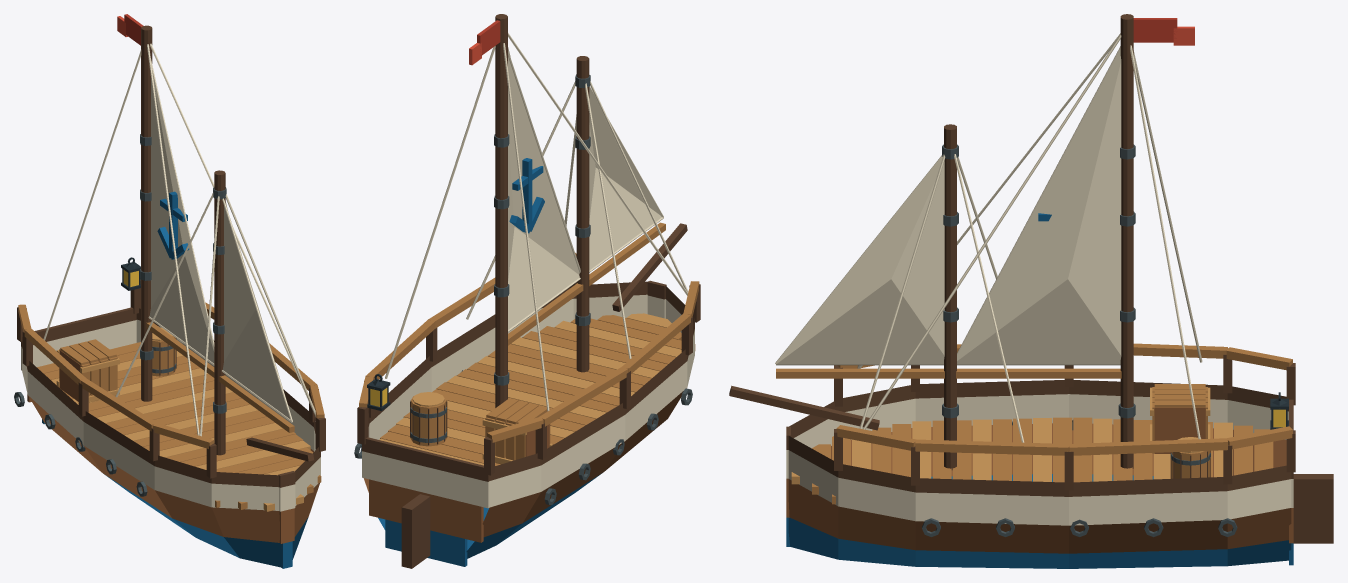
The model's file is main_sailboat.glb.
The picture shows the model from 3 angles, left to right: view 1: azimuth 30°, elevation 25°; view 2: azimuth 150°, elevation 25°; view 3: azimuth 270°, elevation 25°; orthographic projection. The views are drawn at different scales.
Parts seen in each view (by area): view 1: body__wood2.010, body__cream.011, body__wood_dark.011, mainsail__cream.002, body__wood.008, jib__cream.002, body__wood3.008, body__ocean.007, body__metal.012; view 2: body__wood2.010, body__cream.011, body__wood_dark.011, mainsail__cream.002, body__wood.008, body__wood3.008, jib__cream.002, body__ocean.007, body__metal.012, rudder__wood_dark.002, body__red.004, body__dark.011; view 3: body__cream.011, body__wood_dark.011, mainsail__cream.002, body__wood2.010, body__wood.008, jib__cream.002, body__ocean.007, body__wood3.008, rudder__wood_dark.002, body__metal.012, body__red.004.
Part boxes in pixels (<box>): body__wood2.010: <box>18,280,324,509</box>; body__cream.011: <box>21,43,320,511</box>; body__wood_dark.011: <box>17,25,325,487</box>; mainsail__cream.002: <box>149,78,214,363</box>; body__wood.008: <box>27,350,319,543</box>; jib__cream.002: <box>222,206,289,418</box>; body__wood3.008: <box>51,327,310,511</box>; body__ocean.007: <box>42,191,308,568</box>; body__metal.012: <box>14,134,253,496</box>; body__wood2.010: <box>359,222,699,466</box>; body__cream.011: <box>362,33,694,508</box>; body__wood_dark.011: <box>357,14,700,481</box>; mainsail__cream.002: <box>508,57,579,329</box>; body__wood.008: <box>363,388,686,542</box>; body__wood3.008: <box>379,313,681,465</box>; jib__cream.002: <box>589,90,661,269</box>; body__ocean.007: <box>378,158,601,566</box>; body__metal.012: <box>354,74,692,504</box>; rudder__wood_dark.002: <box>401,494,430,568</box>; body__red.004: <box>477,20,500,55</box>; body__dark.011: <box>367,374,390,411</box>; body__cream.011: <box>775,33,1293,525</box>; body__wood_dark.011: <box>729,14,1295,496</box>; mainsail__cream.002: <box>957,49,1121,364</box>; body__wood2.010: <box>776,343,1292,504</box>; body__wood.008: <box>786,407,1293,553</box>; jib__cream.002: <box>776,157,944,364</box>; body__ocean.007: <box>786,213,1293,568</box>; body__wood3.008: <box>791,387,1232,484</box>; rudder__wood_dark.002: <box>1293,474,1333,543</box>; body__metal.012: <box>922,144,1237,537</box>; body__red.004: <box>1133,18,1177,42</box>.
Size of the model in its own units: 2.38 by 5.5 by 5.71.
